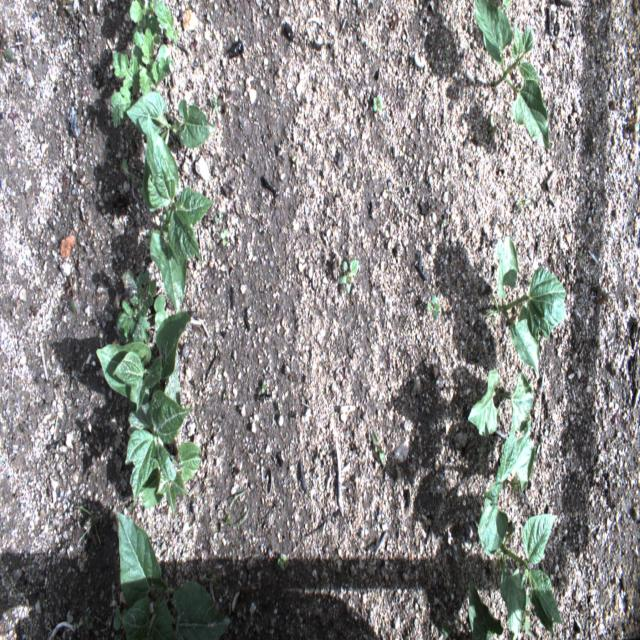crop: (115, 511, 233, 639), (142, 115, 215, 313), (476, 498, 564, 640), (473, 0, 549, 149), (487, 235, 567, 376), (125, 370, 202, 515), (467, 367, 537, 506), (96, 310, 192, 406), (126, 90, 216, 151), (467, 582, 506, 639)
weed: (109, 0, 177, 130), (114, 268, 178, 348), (74, 504, 102, 543), (338, 257, 358, 295), (371, 430, 386, 466), (426, 292, 442, 322), (522, 593, 532, 638), (121, 156, 136, 186), (0, 38, 15, 66), (440, 618, 453, 640), (276, 551, 290, 571), (84, 614, 95, 632), (372, 94, 382, 112), (220, 229, 228, 248), (213, 210, 223, 224), (212, 94, 219, 113), (260, 379, 267, 396)
